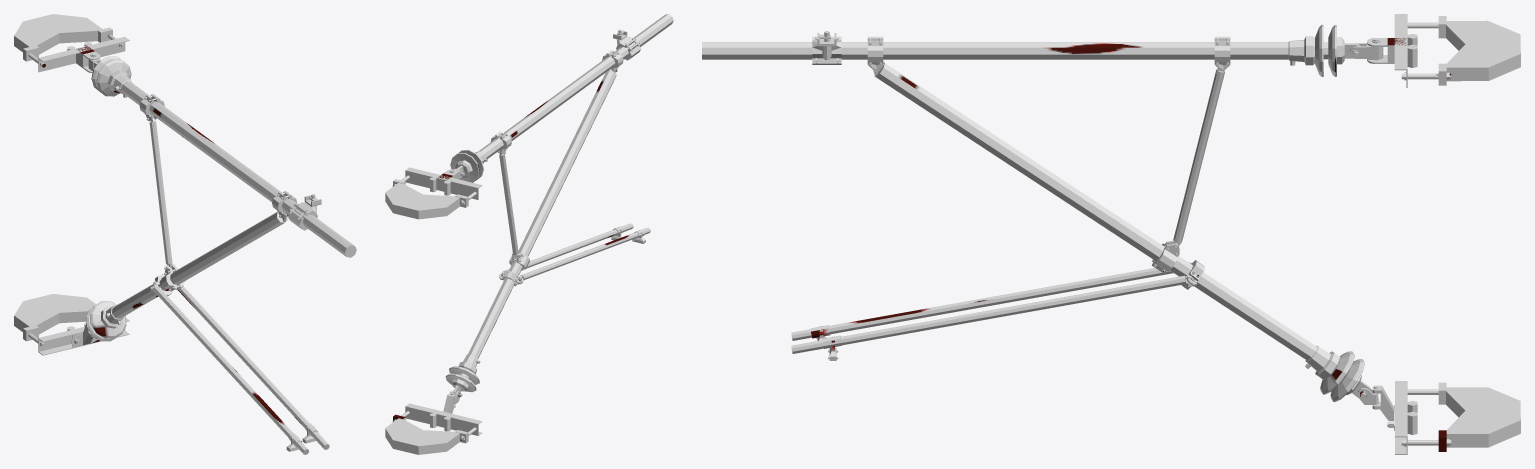
Rendered from Bracket1a.obj.
3 views of the same model, side by side, from view 1: azimuth 30°, elevation 25°; view 2: azimuth 150°, elevation 25°; view 3: azimuth 270°, elevation 25° (orthographic). The views are drawn at different scales.
Visible parts, largest first — view 1: obj1; view 2: obj1; view 3: obj1.
Part boxes in pixels (x1=…): obj1: x1=14, y1=14, x2=356, y2=454; obj1: x1=385, y1=14, x2=673, y2=454; obj1: x1=702, y1=14, x2=1520, y2=454.
Bounding box in the file's own units: 0.3603 × 1.22 × 2.25.
1 material, 1 textured.
